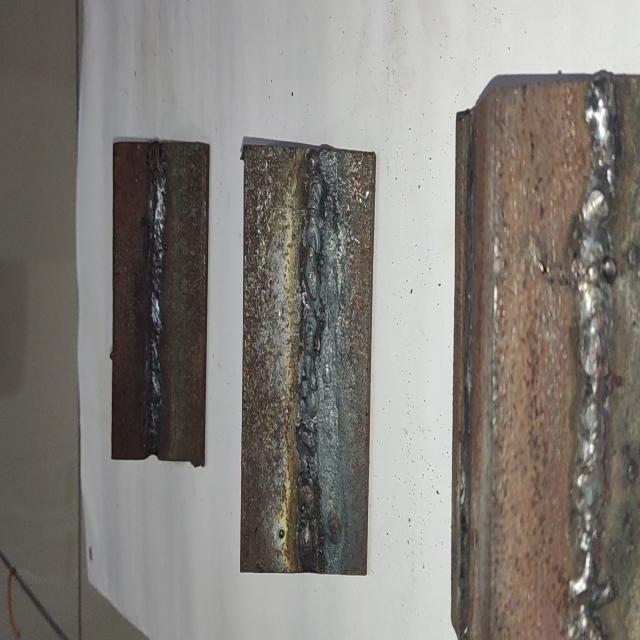Defect: (565, 76, 620, 215), (295, 352, 328, 566)
Welding Line: (572, 77, 615, 639), (296, 155, 338, 573), (143, 144, 167, 456)
Workpiece: (450, 62, 640, 640), (238, 136, 374, 581), (110, 136, 209, 463)
